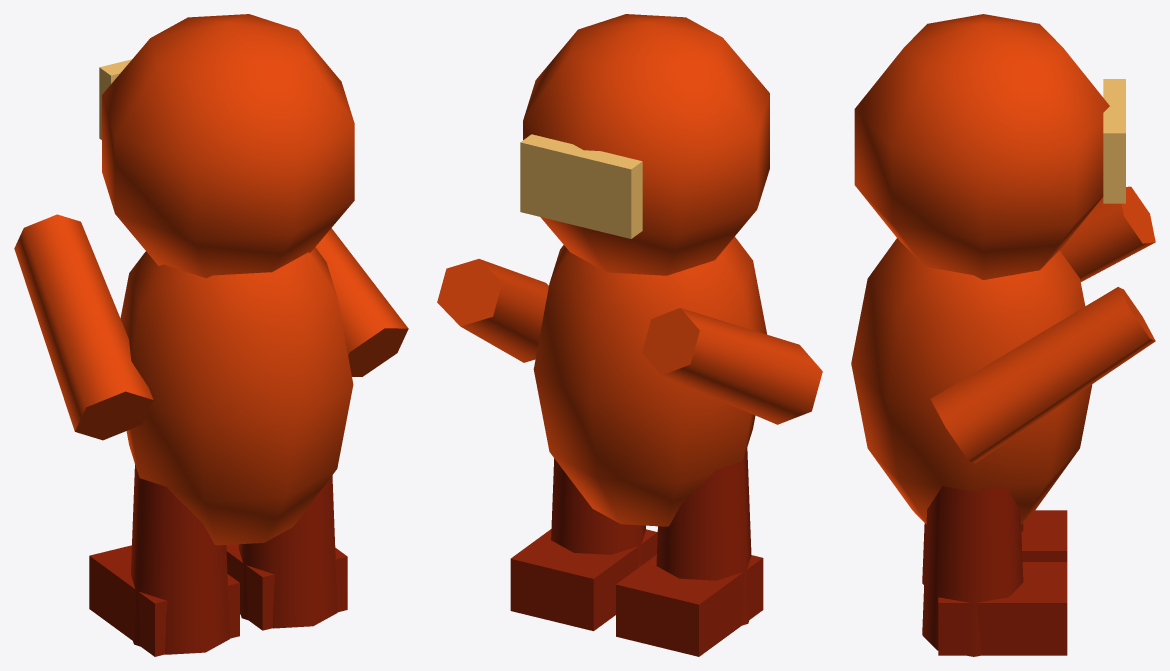
File: crowd_unit.glb
The picture shows the model from 3 angles, left to right: view 1: azimuth 30°, elevation 25°; view 2: azimuth 150°, elevation 25°; view 3: azimuth 270°, elevation 25°; orthographic projection. The views are drawn at different scales.
Visible parts, largest first — view 1: CrowdUnit2; view 2: CrowdUnit2; view 3: CrowdUnit2.
Part boxes in pixels (x1,y1,x2,y2): CrowdUnit2: (14,14,408,656); CrowdUnit2: (437,14,822,656); CrowdUnit2: (851,14,1155,656).
Size of the model in its own units: 0.5688 by 1 by 0.4719.
